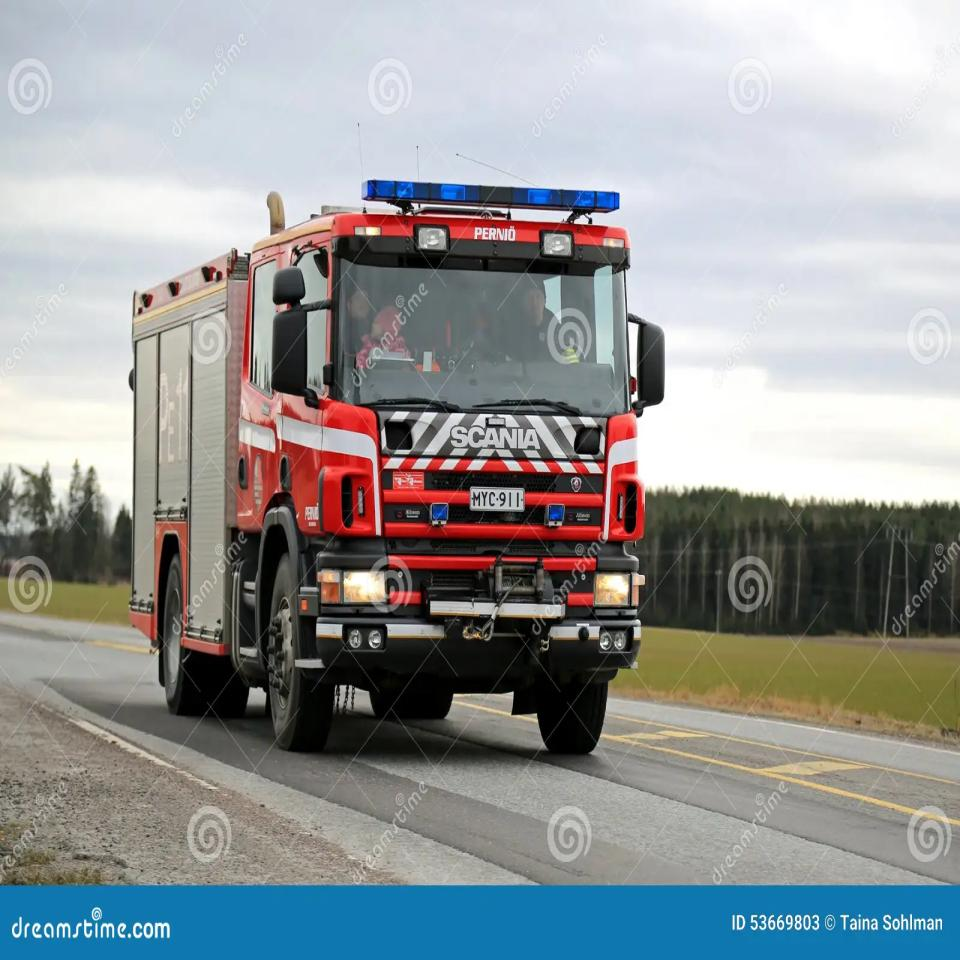viatura: (129, 178, 665, 748)
